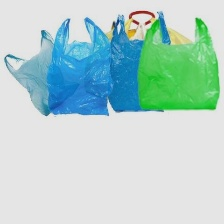plastic_bag: (136, 14, 223, 112), (41, 13, 114, 118), (102, 7, 171, 115), (2, 25, 60, 116)
